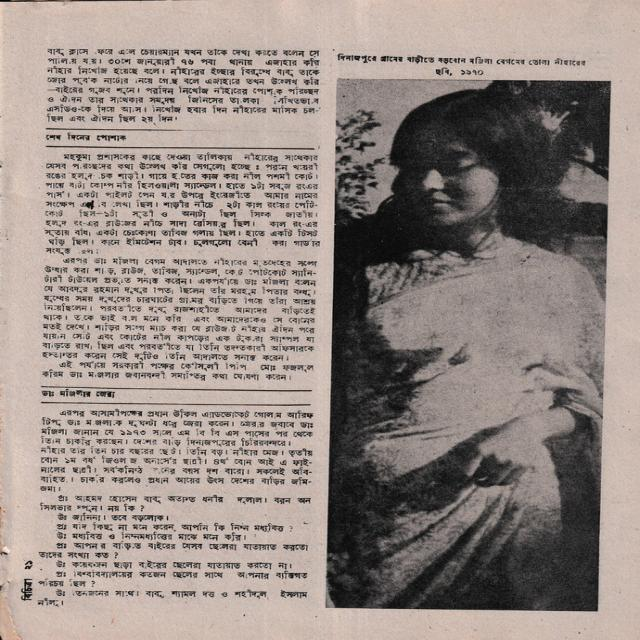caption: (334, 51, 593, 77)
image: (323, 78, 616, 611)
page number: (22, 555, 36, 572)
paragraph: (38, 256, 320, 383), (43, 150, 325, 256), (37, 405, 317, 495), (44, 46, 323, 124), (35, 588, 310, 608), (39, 493, 312, 513), (37, 540, 310, 560), (37, 569, 309, 588), (54, 559, 293, 570), (55, 522, 294, 533), (55, 531, 248, 542), (55, 512, 170, 522)
text: (20, 579, 34, 601)
title: (45, 132, 128, 142), (42, 389, 116, 398)
